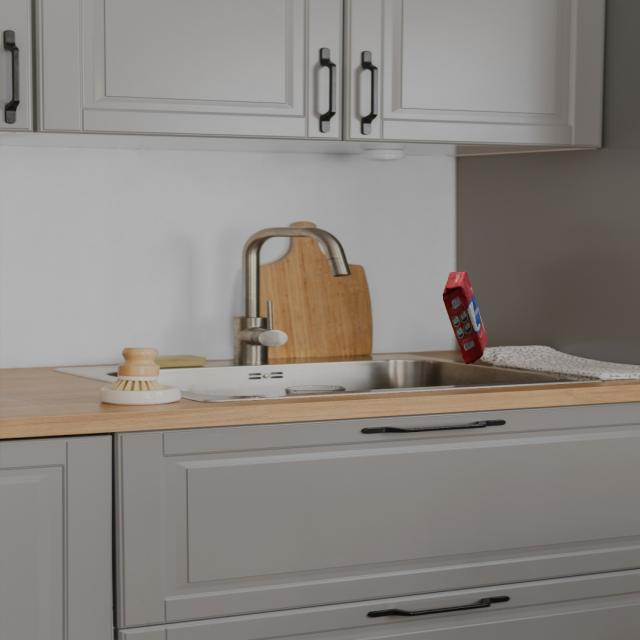mate bag: (442, 266, 485, 362)
